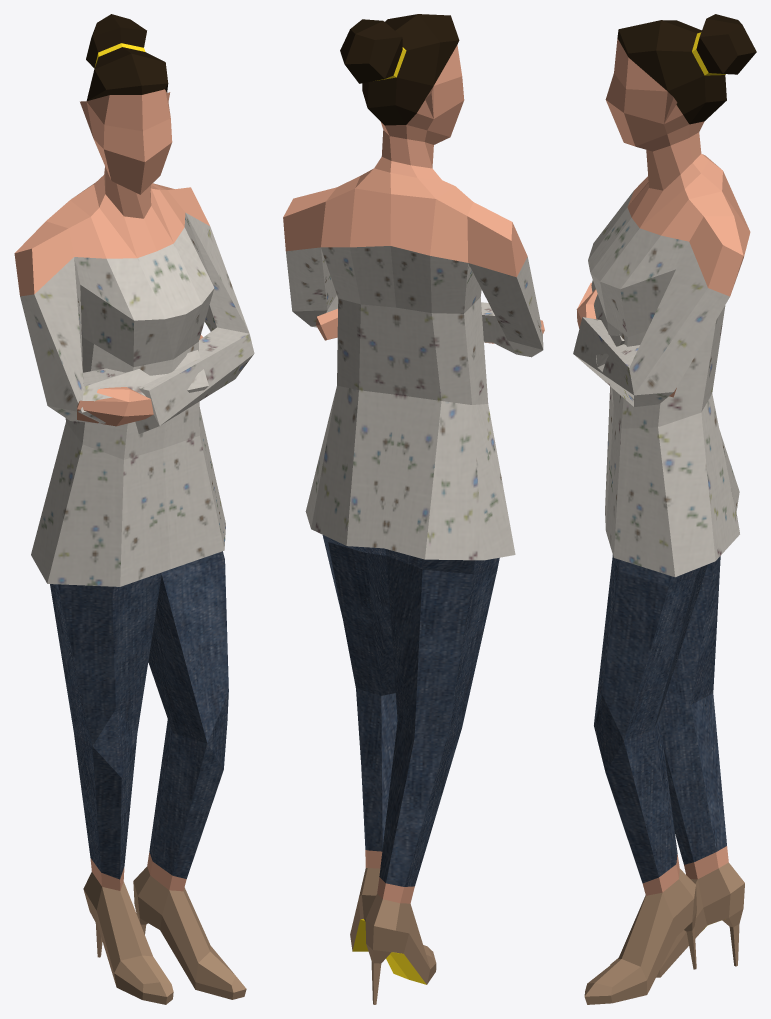
Rendered from SpringWomanA.002.glb.
3 renders of one model, left to right at view 1: azimuth 30°, elevation 25°; view 2: azimuth 150°, elevation 25°; view 3: azimuth 270°, elevation 25°, orthographic. The views are drawn at different scales.
Visible parts, largest first — view 1: SpringWomanA.002; view 2: SpringWomanA.002; view 3: SpringWomanA.002.
Boxes of the visible parts, x1,y1,x2,y2 form: SpringWomanA.002: (14, 14, 254, 1004); SpringWomanA.002: (283, 14, 544, 1004); SpringWomanA.002: (573, 14, 756, 1004).
Bounding box in the file's own units: 0.4168 × 1.72 × 0.2993.
1 material, 1 textured.
